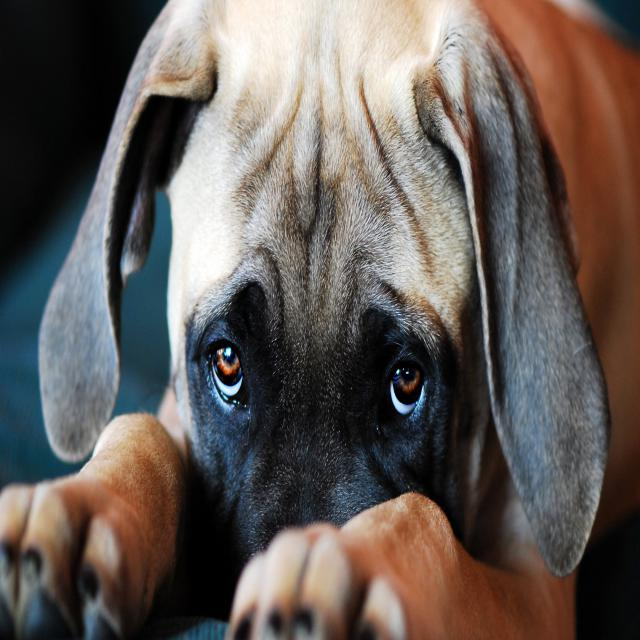eye: (203, 327, 254, 418), (382, 350, 429, 422)
